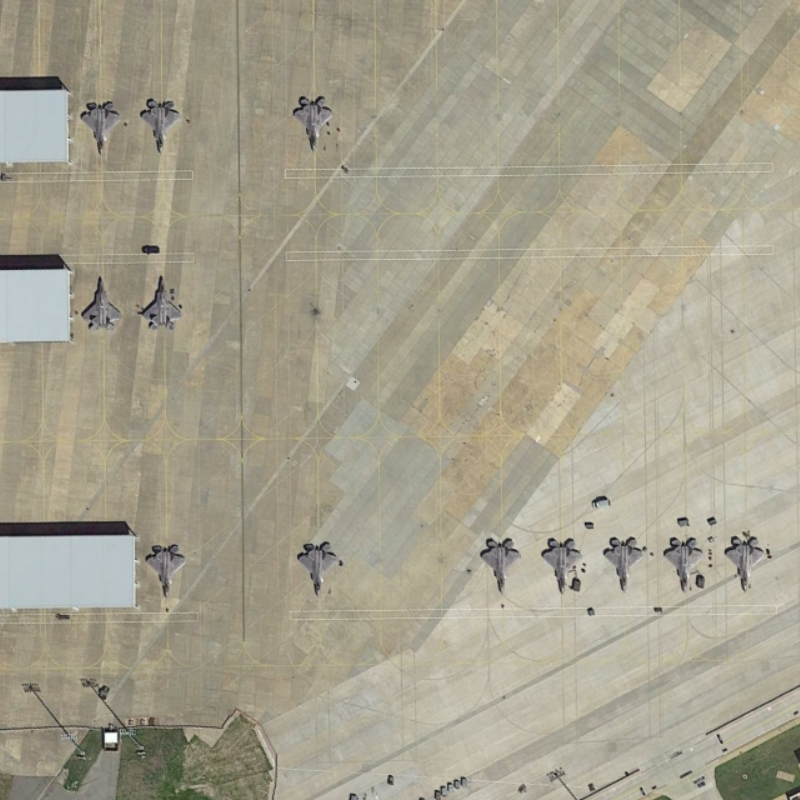A15: (472, 534, 524, 599), (292, 535, 343, 598), (140, 539, 191, 602), (538, 529, 583, 598), (137, 271, 186, 334), (721, 530, 768, 595), (289, 92, 336, 156), (77, 97, 125, 158), (661, 530, 705, 596), (138, 93, 182, 157), (79, 271, 125, 332), (599, 533, 643, 595)
